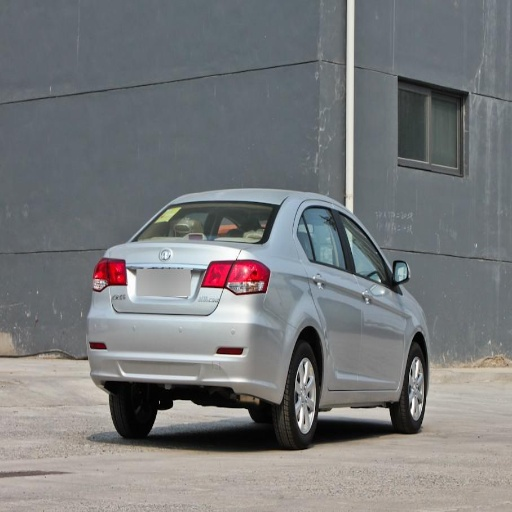back_bumper: (84, 288, 293, 398)
back_right_door: (296, 200, 361, 388)
tailgate: (110, 238, 234, 313)
